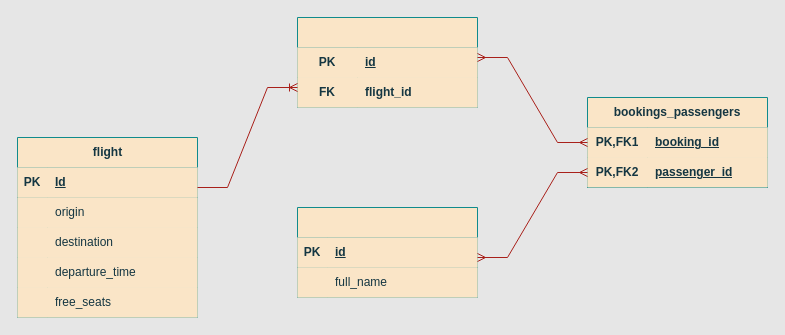
Some shapes in this 785 by 335 pixel diagram are drawn without their labels. The shapes that lost their labels are listed below. From the top down, each one's box as (x1, y1, x2, y2) in pixels, then its label:
(296, 16, 478, 108): booking
(296, 206, 478, 298): passenger
